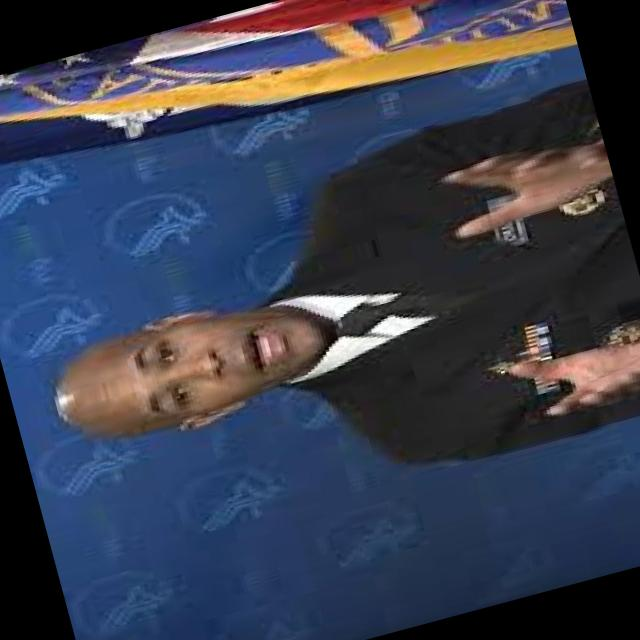bareface: (48, 279, 346, 462)
